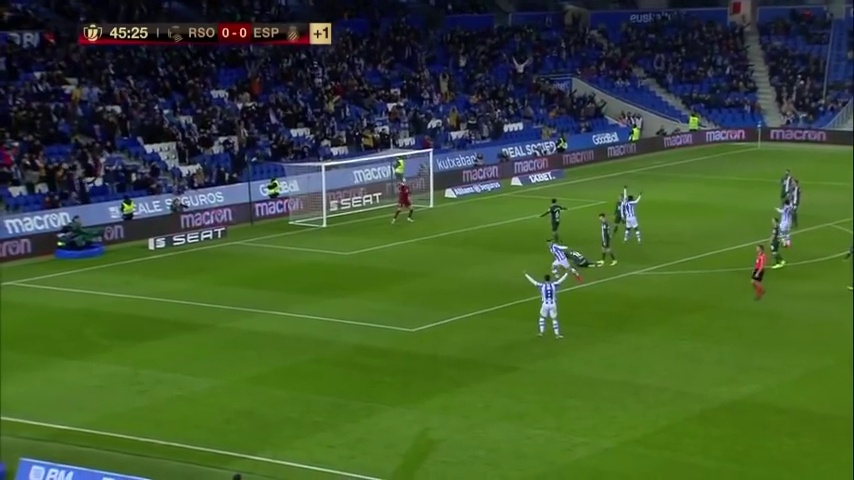player: (522, 271, 566, 340), (546, 237, 589, 286), (539, 197, 570, 242), (389, 178, 417, 225), (621, 192, 645, 245), (595, 213, 618, 268), (611, 186, 630, 239), (776, 198, 796, 248), (767, 218, 786, 269), (775, 169, 795, 212), (787, 178, 804, 226), (564, 248, 604, 268)
referee: (747, 244, 770, 302)
